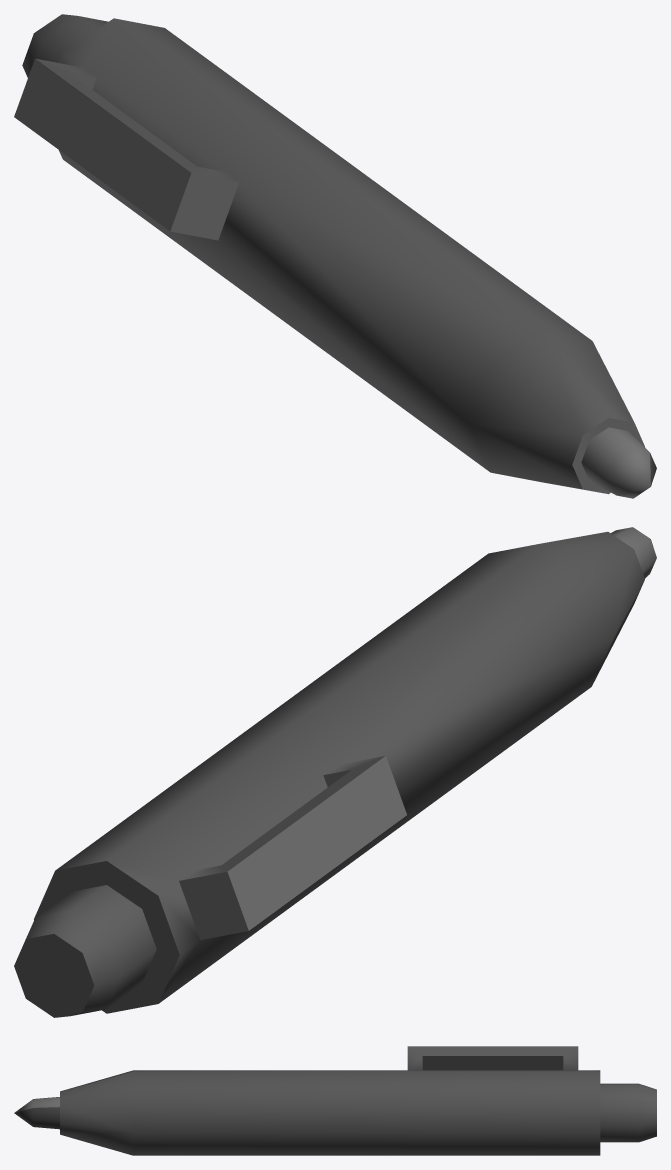
File: Pluma.fbx
3 renders of one model, top to bottom at view 1: azimuth 30°, elevation 25°; view 2: azimuth 150°, elevation 25°; view 3: azimuth 270°, elevation 25°, orthographic. The views are drawn at different scales.
Parts seen in each view (by area): view 1: Pluma; view 2: Pluma; view 3: Pluma.
Boxes of the visible parts, x1,y1,x2,y2 form: Pluma: (14,14,656,498); Pluma: (14,527,656,1017); Pluma: (14,1046,656,1155).
Size of the model in its own units: 4.68 by 3.51 by 24.85.
